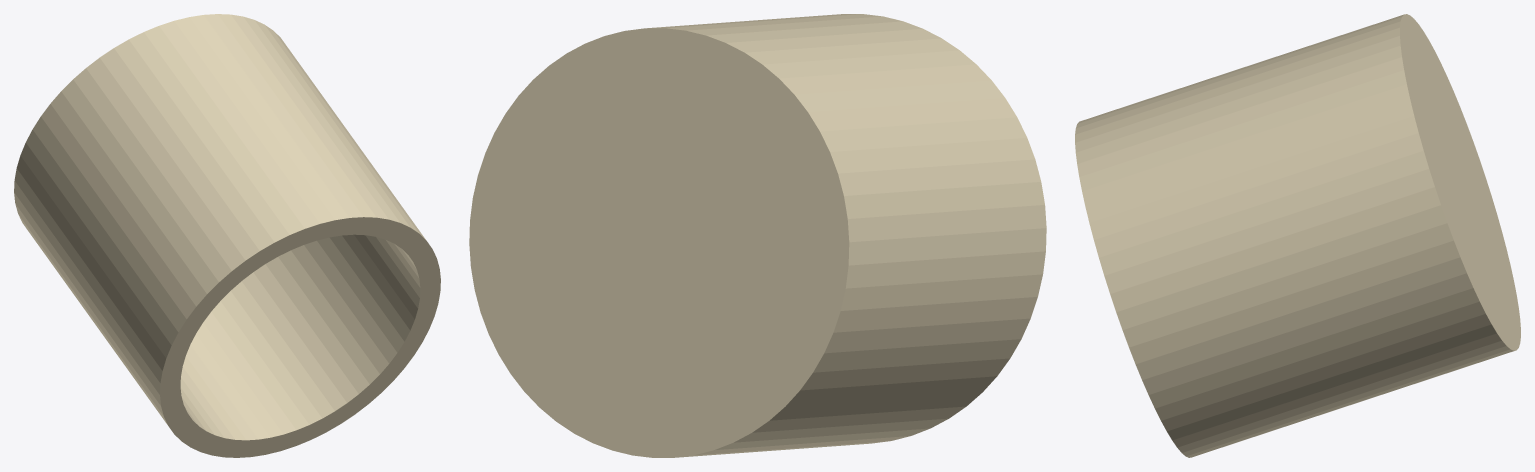
File: ignition-lead-4-plug-contact.glb
3 views of the same model, side by side, from view 1: azimuth 30°, elevation 25°; view 2: azimuth 150°, elevation 25°; view 3: azimuth 270°, elevation 25° (orthographic). The views are drawn at different scales.
Visible parts, largest first — view 1: world; view 2: world; view 3: world.
Boxes of the visible parts, x1,y1,x2,y2 form: world: (14,14,440,457); world: (469,14,1046,457); world: (1075,14,1520,457).
Size of the model in its own units: 0.0082 by 0.0104 by 0.0103.
